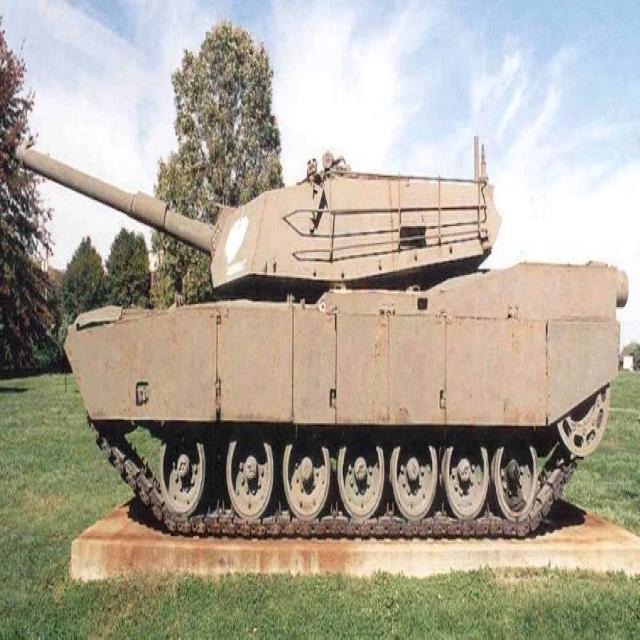Tanks: (11, 40, 575, 605)
